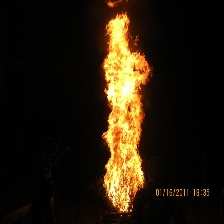fire: (98, 10, 152, 210)
